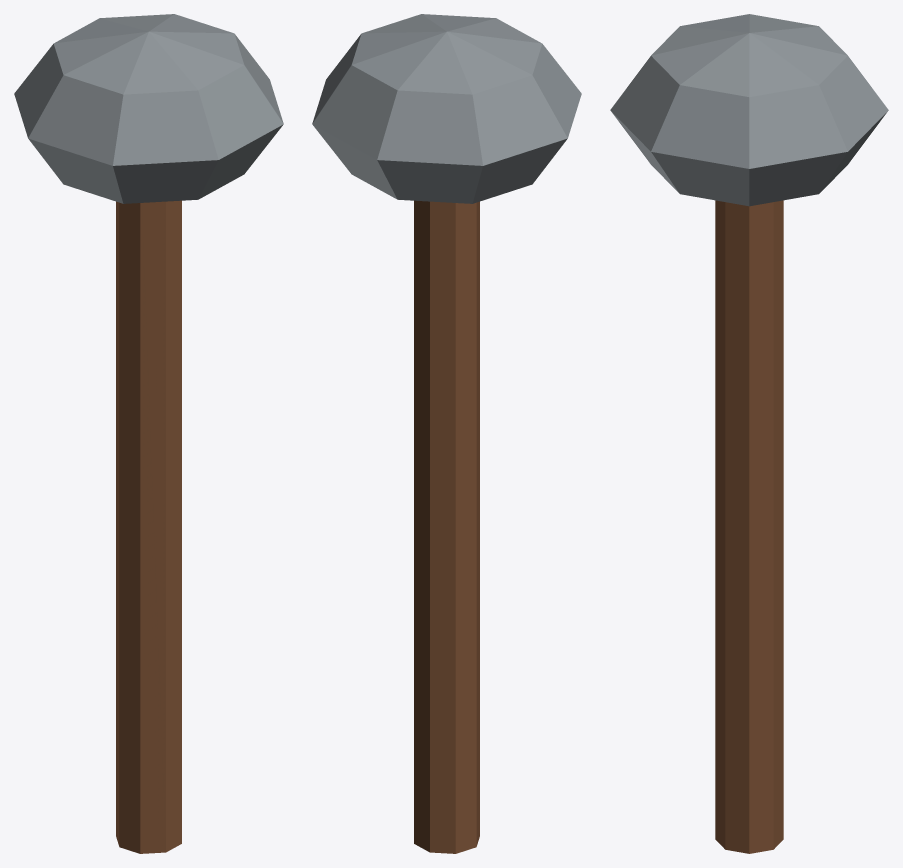
File: ladle.glb
The picture shows the model from 3 angles, left to right: view 1: azimuth 30°, elevation 25°; view 2: azimuth 150°, elevation 25°; view 3: azimuth 270°, elevation 25°; orthographic projection.
Visible parts, largest first — view 1: ladle; view 2: ladle; view 3: ladle.
Boxes of the visible parts, x1,y1,x2,y2 form: ladle: (14, 14, 283, 853); ladle: (312, 14, 581, 853); ladle: (610, 14, 888, 853).
Size of the model in its own units: 0.18 by 0.575 by 0.18.
